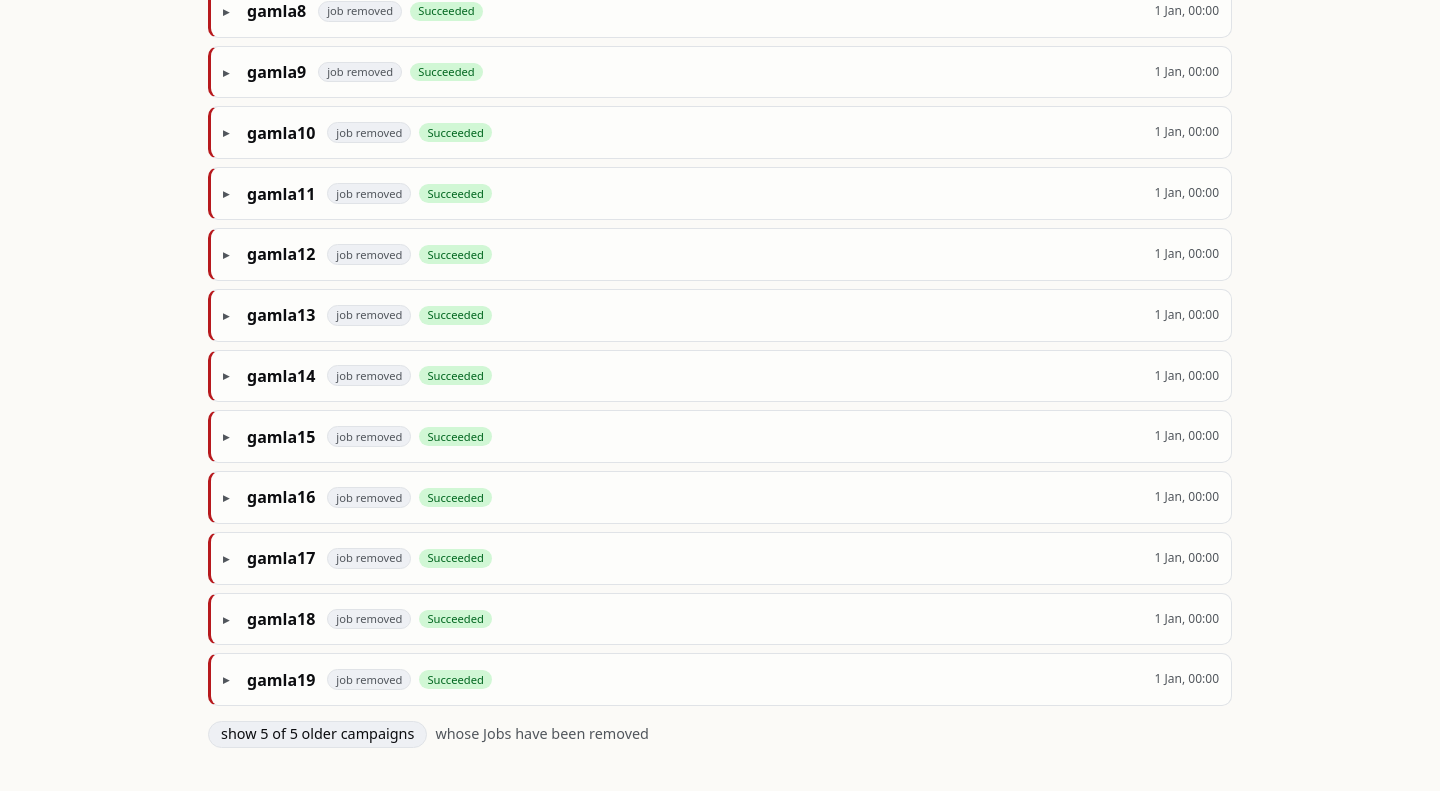
Test: / campaign page › older reaped campaigns wait behind a button, a page at a time
(page scrolled)
Click the button "show 5 of 5 older campaigns".
click(318, 734)  # box [208,721,427,748]
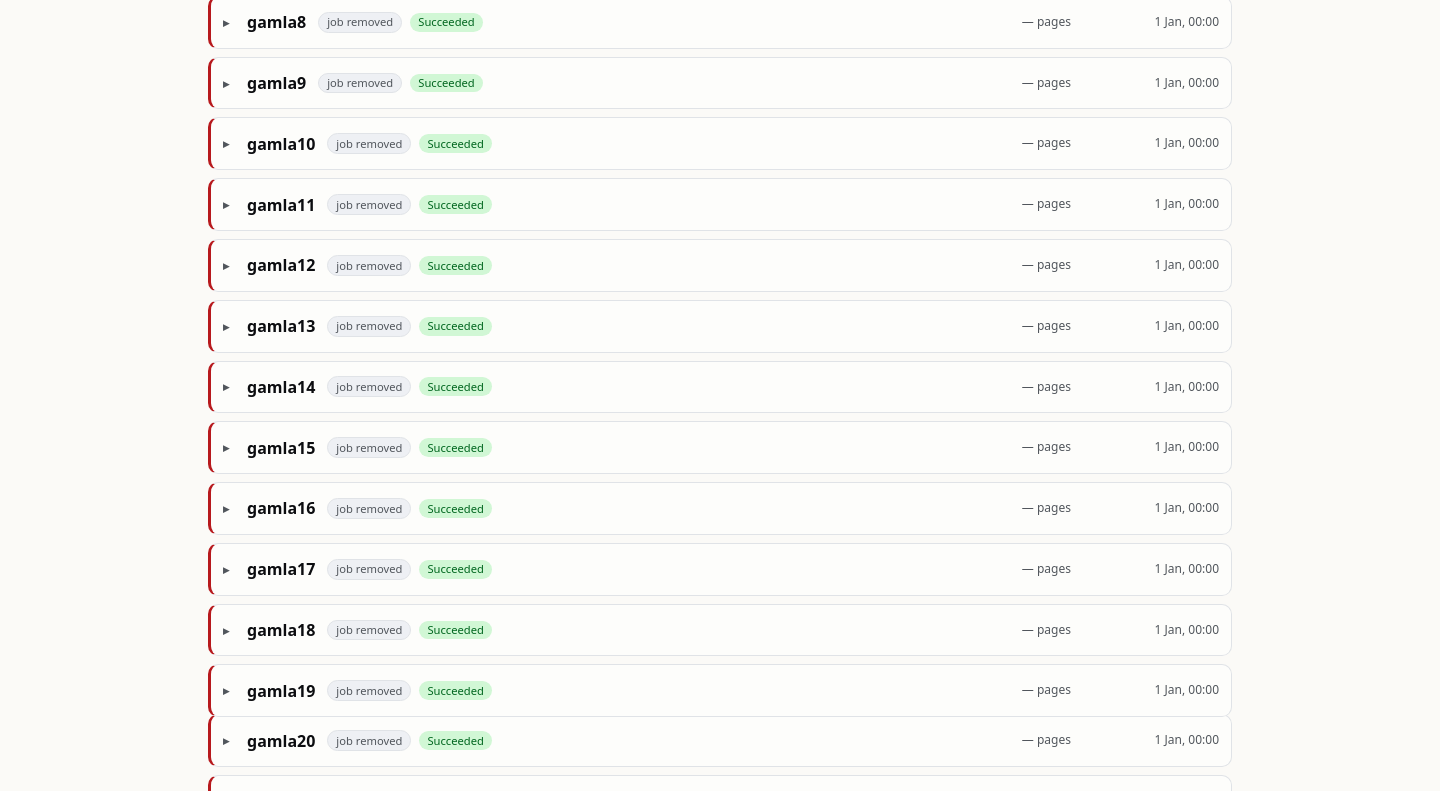
Check: the button "older campaigns" is gone
